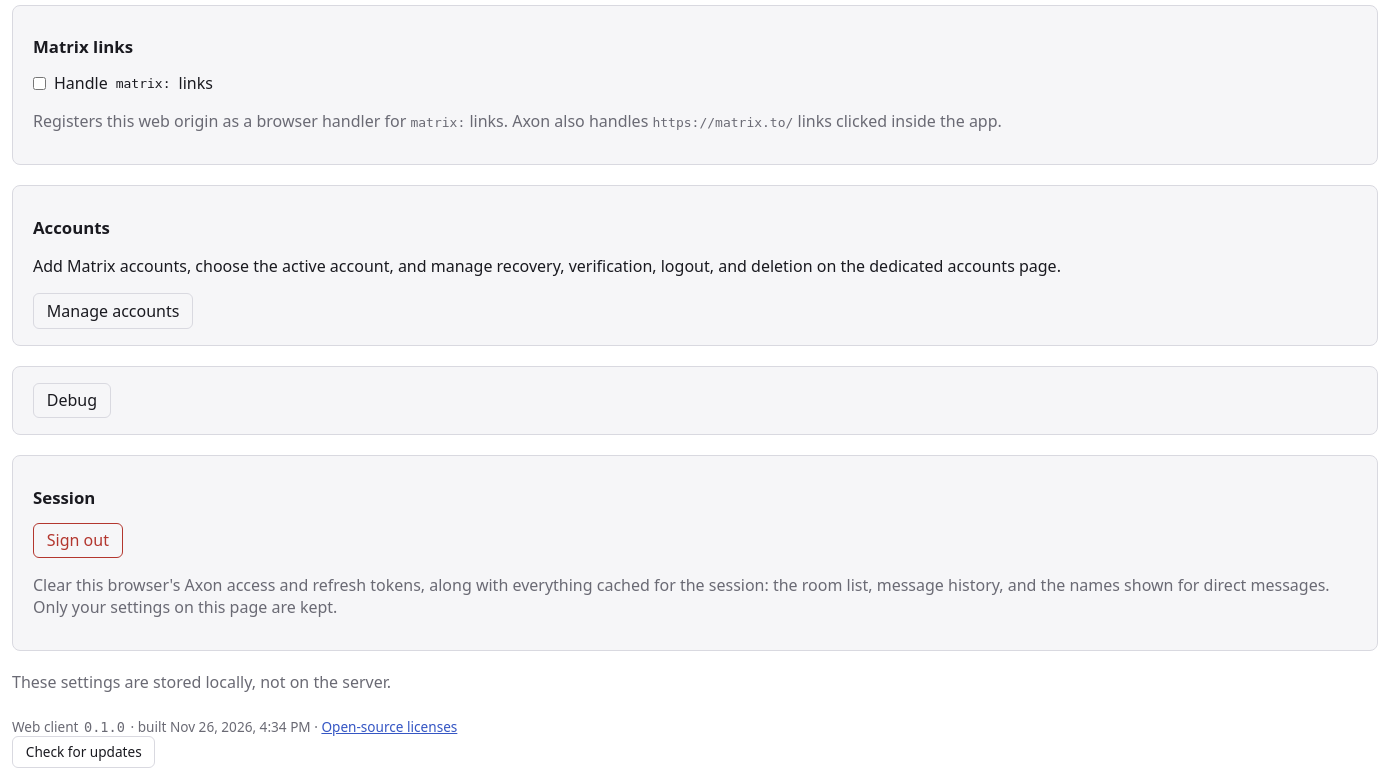
SettingsPage › copies the web client version from the footer
The image size is (1378, 768).
(page scrolled)
Step 1. Click the button named "Copy web client version" → coordinates (104, 726), box [82,717,127,736]
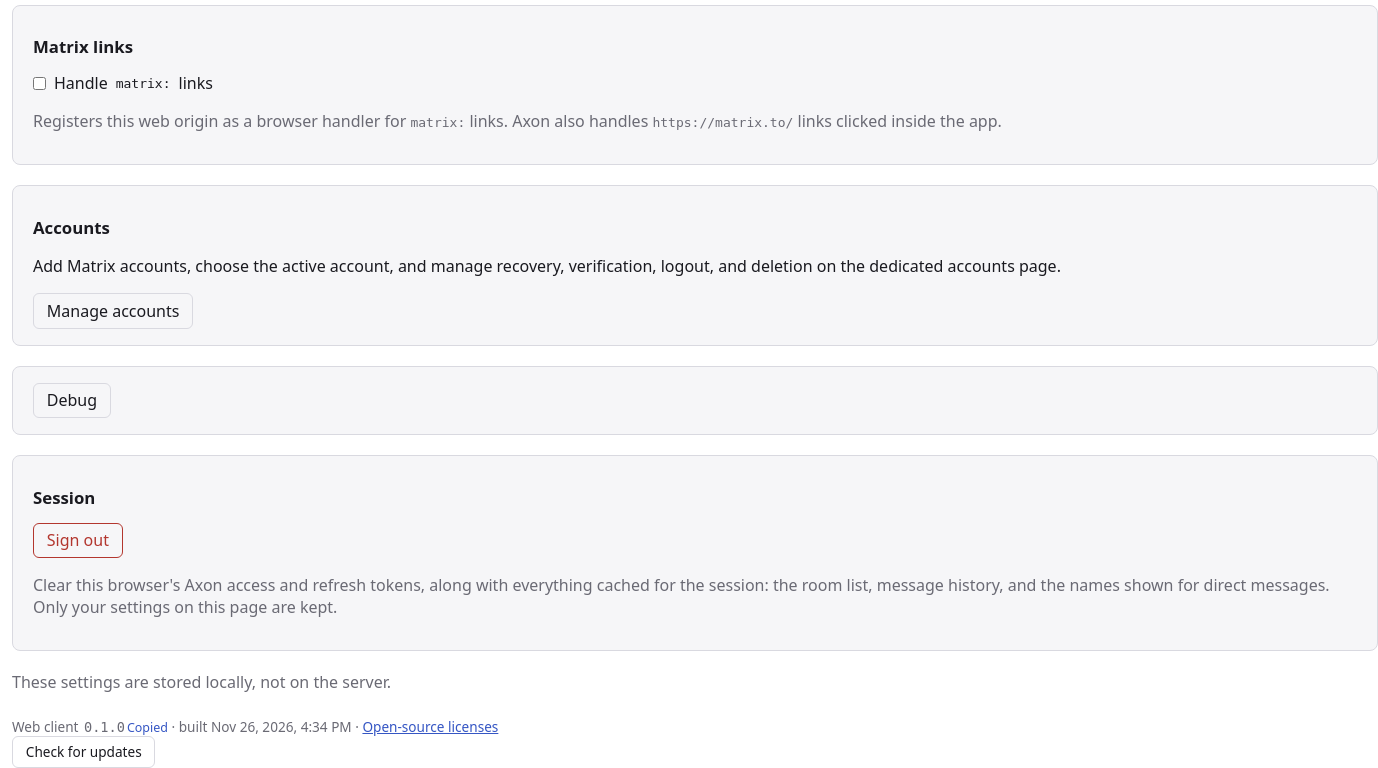
Expected: the message reads "Copied", [127,719,168,736]
